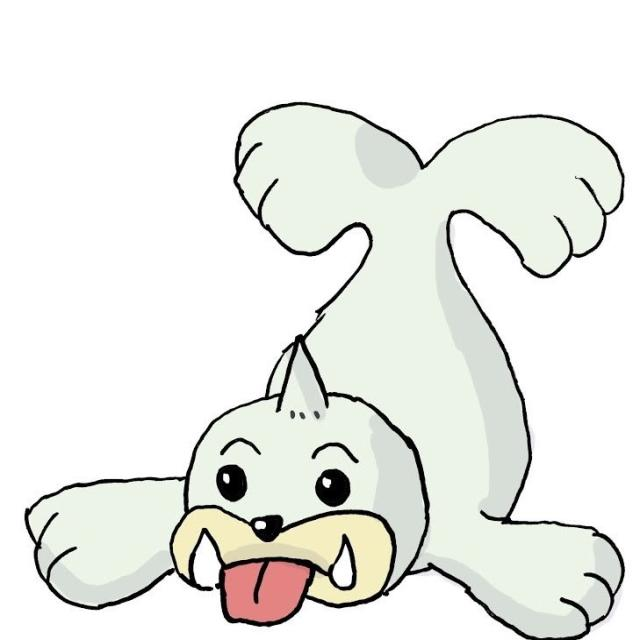Seel: (175, 102, 626, 618)
